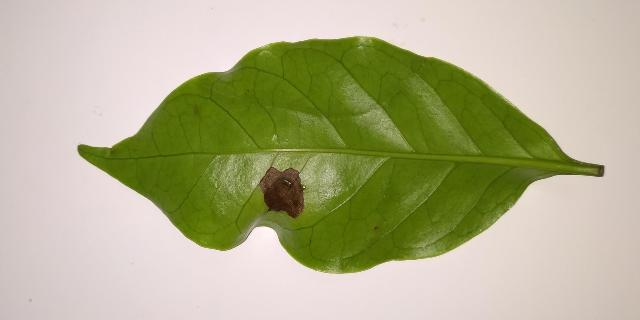rust: (258, 166, 305, 218)
